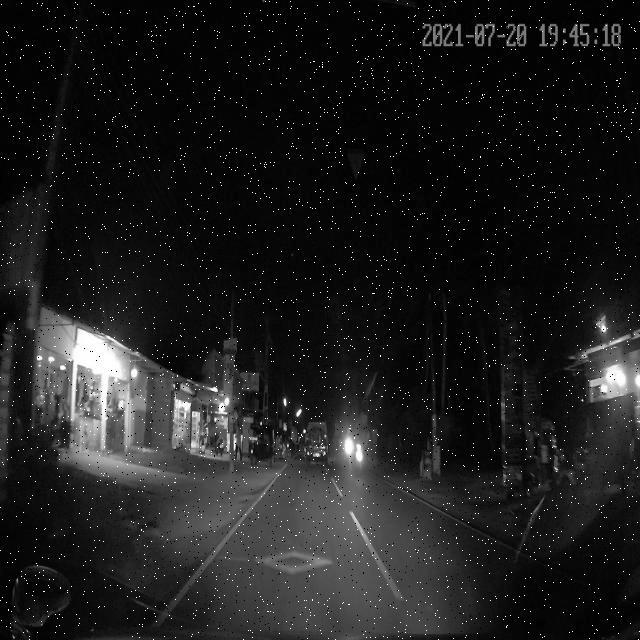diamond: (196, 548, 391, 576)
